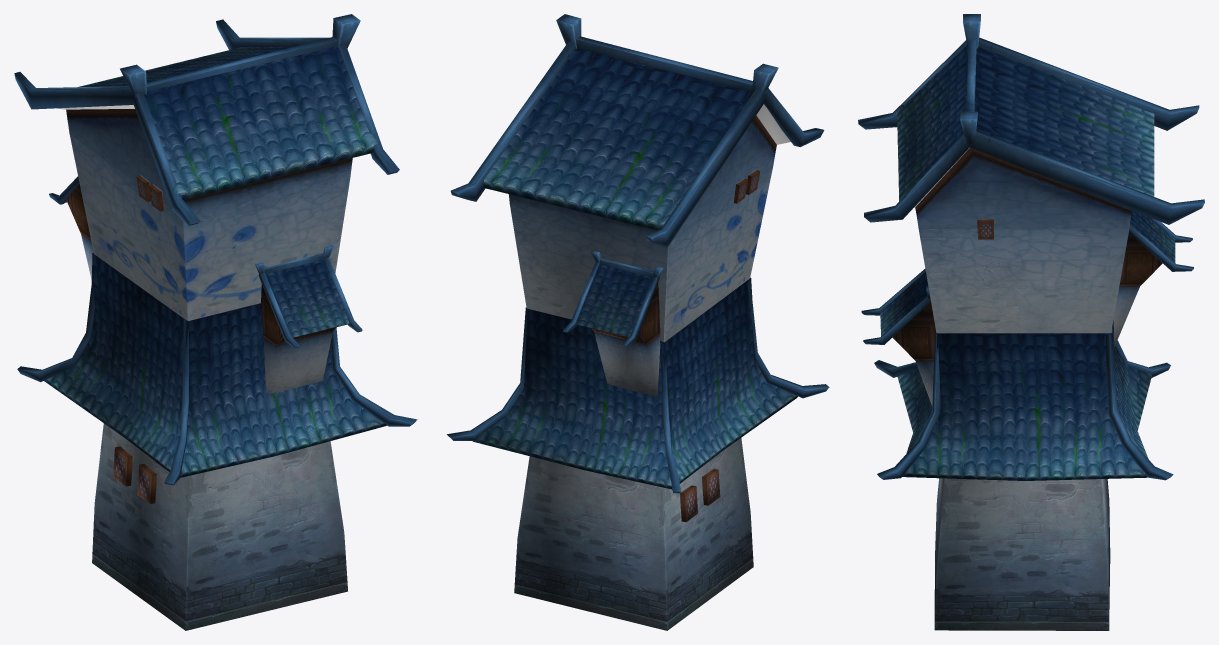
Rendered from environment_building_qinghuacifangwu_03_a.FBX.
3 renders of one model, left to right at view 1: azimuth 30°, elevation 25°; view 2: azimuth 150°, elevation 25°; view 3: azimuth 270°, elevation 25°, orthographic. The views are drawn at different scales.
Visible parts, largest first — view 1: environment_building_qinghuacifangwu_03_e1, environment_building_qinghuacifangwu_03_g0, environment_building_qinghuacifangwu_03_a0, environment_building_qinghuacifangwu_03_d0, environment_building_qinghuacifangwu_03_b0, environment_building_qinghuacifangwu_03_e0, environment_building_qinghuacifangwu_03_g1, environment_building_qinghuacifangwu_03_f1, environment_building_qinghuacifangwu_03_f0; view 2: environment_building_qinghuacifangwu_03_a0, environment_building_qinghuacifangwu_03_g0, environment_building_qinghuacifangwu_03_e1, environment_building_qinghuacifangwu_03_b0, environment_building_qinghuacifangwu_03_e2, environment_building_qinghuacifangwu_03_d0, environment_building_qinghuacifangwu_03_e0, environment_building_qinghuacifangwu_03_g1, environment_building_qinghuacifangwu_03_f1, environment_building_qinghuacifangwu_03_f0, environment_building_qinghuacifangwu_03_c0; view 3: environment_building_qinghuacifangwu_03_g0, environment_building_qinghuacifangwu_03_e1, environment_building_qinghuacifangwu_03_a0, environment_building_qinghuacifangwu_03_e2, environment_building_qinghuacifangwu_03_b0, environment_building_qinghuacifangwu_03_e0, environment_building_qinghuacifangwu_03_g1, environment_building_qinghuacifangwu_03_f0, environment_building_qinghuacifangwu_03_d0, environment_building_qinghuacifangwu_03_f1.
Part boxes in pixels (x1,y1,x2,y2): environment_building_qinghuacifangwu_03_e1: [92, 423, 347, 630]; environment_building_qinghuacifangwu_03_g0: [44, 253, 386, 477]; environment_building_qinghuacifangwu_03_a0: [65, 46, 378, 337]; environment_building_qinghuacifangwu_03_d0: [66, 109, 352, 320]; environment_building_qinghuacifangwu_03_b0: [14, 14, 399, 348]; environment_building_qinghuacifangwu_03_e0: [67, 119, 171, 503]; environment_building_qinghuacifangwu_03_g1: [17, 274, 417, 485]; environment_building_qinghuacifangwu_03_f1: [81, 234, 332, 394]; environment_building_qinghuacifangwu_03_f0: [66, 184, 335, 345]; environment_building_qinghuacifangwu_03_a0: [484, 48, 779, 337]; environment_building_qinghuacifangwu_03_g0: [472, 277, 797, 489]; environment_building_qinghuacifangwu_03_e1: [514, 438, 753, 630]; environment_building_qinghuacifangwu_03_b0: [450, 14, 824, 346]; environment_building_qinghuacifangwu_03_e2: [508, 194, 667, 341]; environment_building_qinghuacifangwu_03_d0: [663, 115, 776, 342]; environment_building_qinghuacifangwu_03_e0: [672, 123, 775, 522]; environment_building_qinghuacifangwu_03_g1: [447, 279, 829, 493]; environment_building_qinghuacifangwu_03_f1: [594, 332, 660, 397]; environment_building_qinghuacifangwu_03_f0: [591, 283, 660, 344]; environment_building_qinghuacifangwu_03_c0: [756, 104, 790, 144]; environment_building_qinghuacifangwu_03_g0: [897, 320, 1151, 480]; environment_building_qinghuacifangwu_03_e1: [934, 478, 1110, 630]; environment_building_qinghuacifangwu_03_a0: [880, 45, 1175, 336]; environment_building_qinghuacifangwu_03_e2: [918, 228, 1129, 335]; environment_building_qinghuacifangwu_03_b0: [858, 14, 1204, 344]; environment_building_qinghuacifangwu_03_e0: [917, 158, 1130, 239]; environment_building_qinghuacifangwu_03_g1: [874, 333, 1173, 480]; environment_building_qinghuacifangwu_03_f0: [892, 233, 1162, 360]; environment_building_qinghuacifangwu_03_d0: [915, 147, 1131, 216]; environment_building_qinghuacifangwu_03_f1: [915, 286, 1139, 406].
Size of the model in its own units: 217 by 449 by 270.
